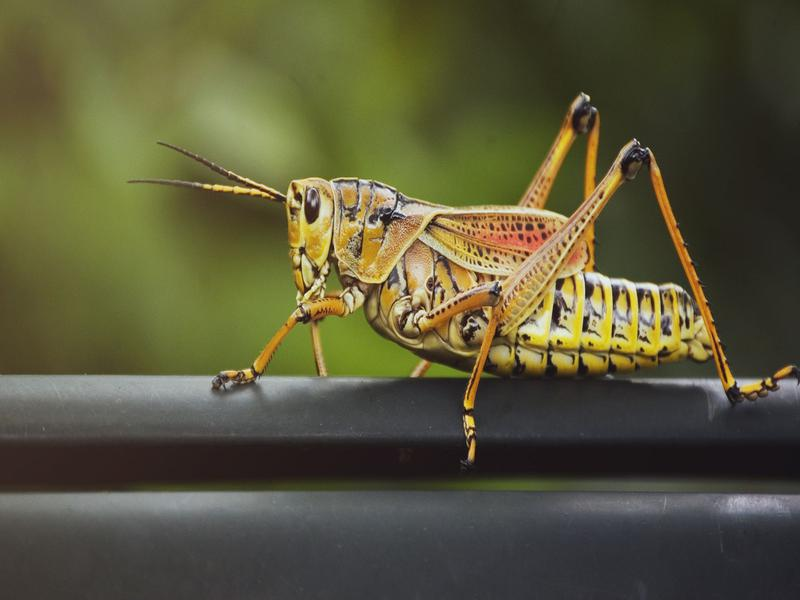Grasshopper: (188, 132, 752, 451)
